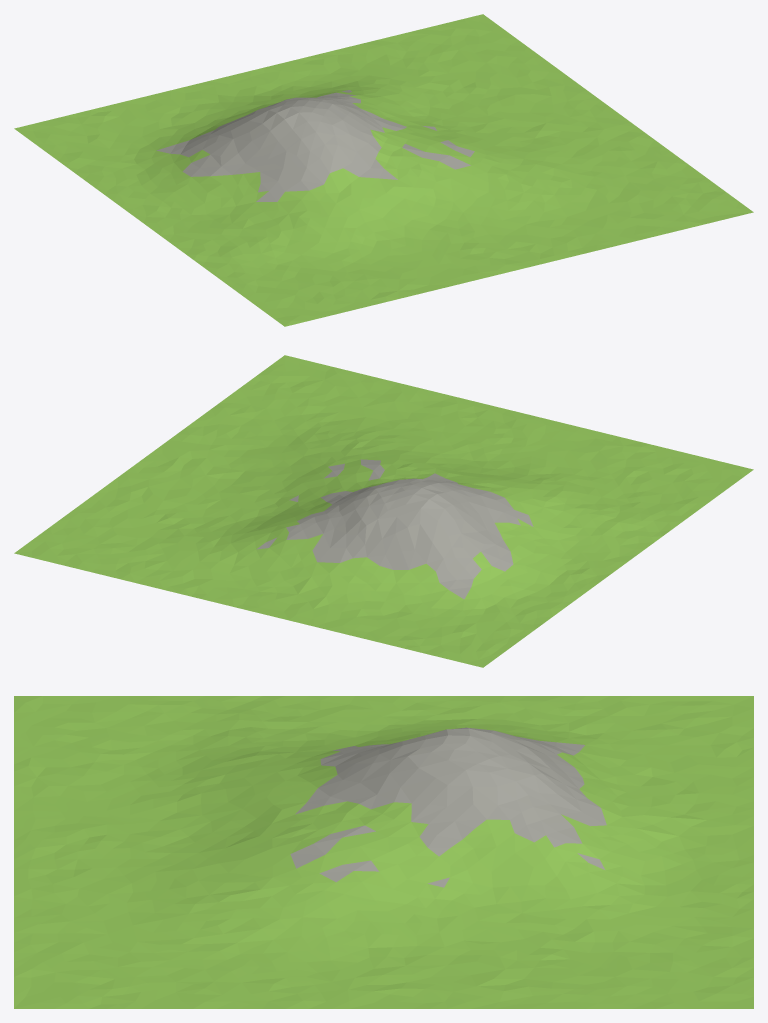
The model's file is terrain_l_b_13.glb.
3 views of the same model, one above another, from view 1: azimuth 30°, elevation 25°; view 2: azimuth 150°, elevation 25°; view 3: azimuth 270°, elevation 25° (orthographic). The views are drawn at different scales.
Parts seen in each view (by area): view 1: CPT_Terrain_L_b_13; view 2: CPT_Terrain_L_b_13; view 3: CPT_Terrain_L_b_13.
Part boxes in pixels (x1,y1,x2,y2): CPT_Terrain_L_b_13: (14, 14, 753, 326); CPT_Terrain_L_b_13: (14, 355, 753, 667); CPT_Terrain_L_b_13: (14, 696, 753, 1008).
Size of the model in its own units: 100 by 11.43 by 100.
Materials: 1 (1 with a texture image).
